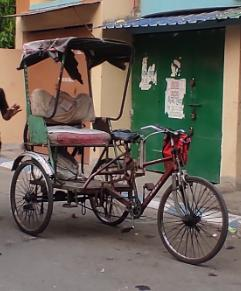Auto: (8, 35, 232, 267)
